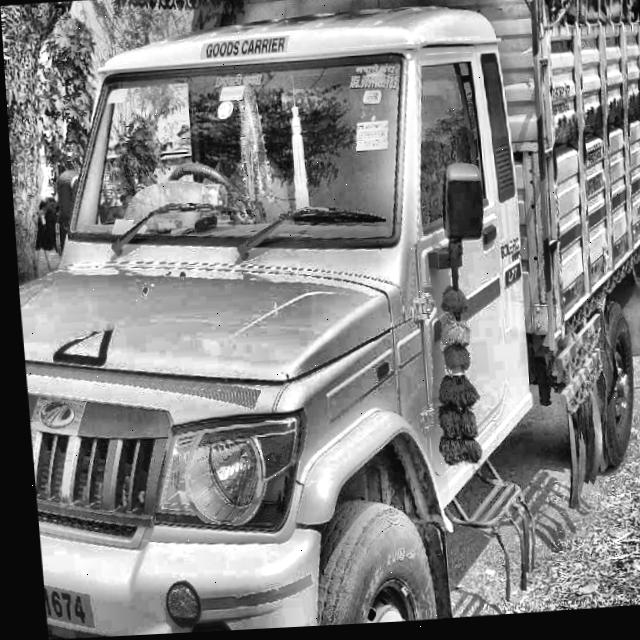light_vehicle: (1, 0, 616, 640)
